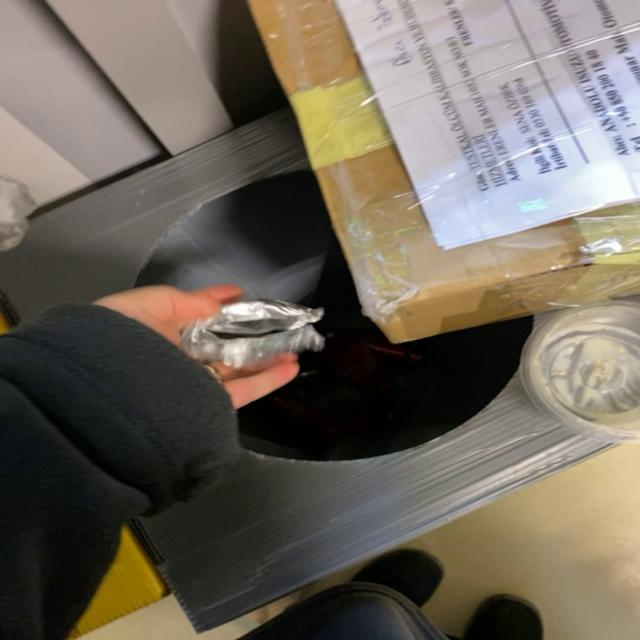bin: (1, 108, 610, 632)
metal: (180, 300, 324, 371)
